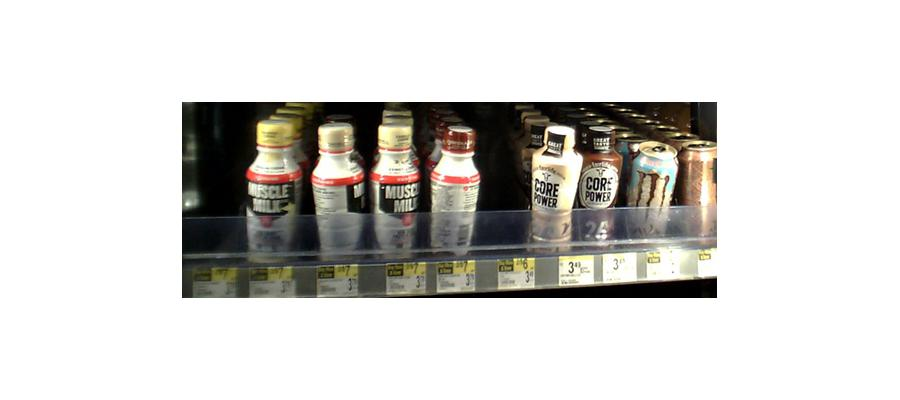bottle: (310, 121, 367, 261), (248, 121, 304, 260), (369, 110, 421, 257), (429, 123, 480, 257), (528, 125, 579, 247), (624, 138, 677, 241), (579, 129, 623, 249), (678, 137, 719, 238)
